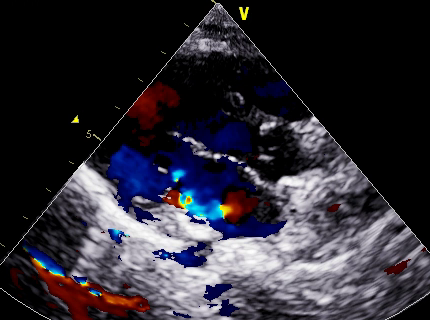MR: (159, 128, 221, 212)
